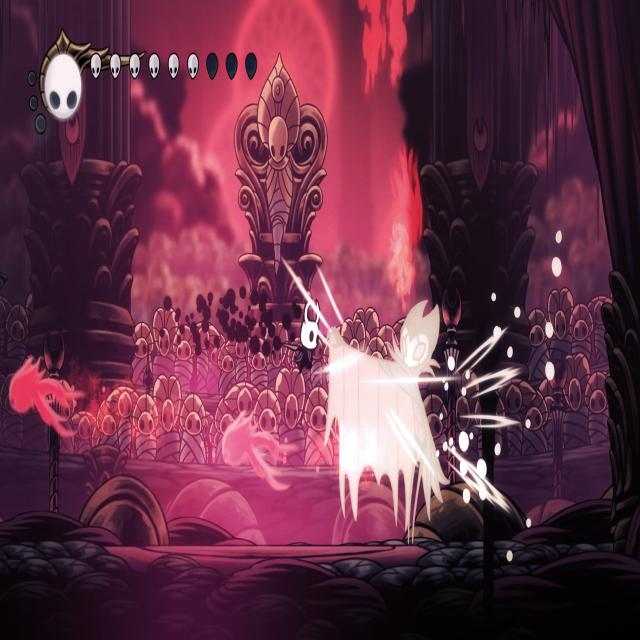Fire Bat: (9, 356, 85, 438), (222, 413, 294, 491)
Open Cloak: (324, 294, 453, 545)
Player: (282, 294, 322, 378)
